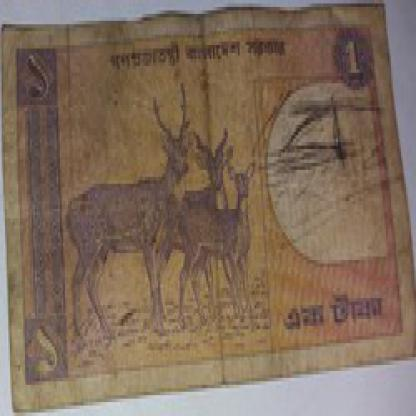One Taka: (285, 288, 386, 329), (17, 49, 58, 104), (25, 322, 65, 378), (341, 35, 365, 80)
